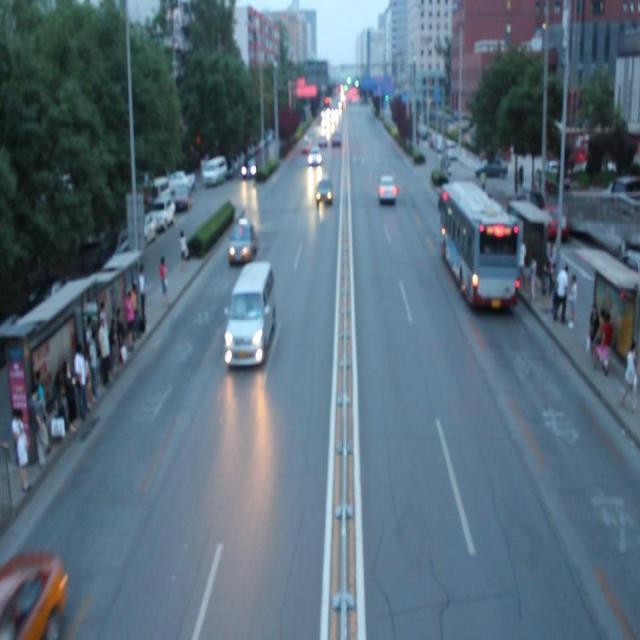car: (0, 553, 64, 640), (227, 218, 254, 262), (376, 173, 398, 204), (316, 177, 332, 205), (307, 144, 321, 165)
truck: (226, 262, 272, 370)
van: (438, 181, 519, 313)
